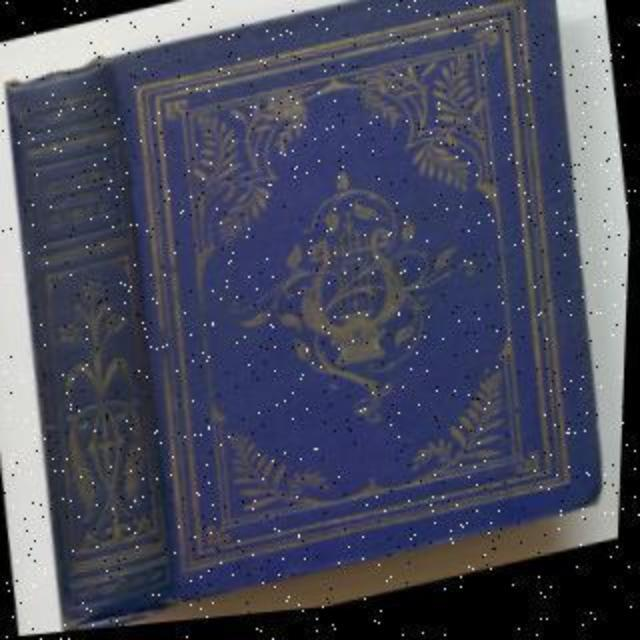book: (88, 0, 632, 614)
